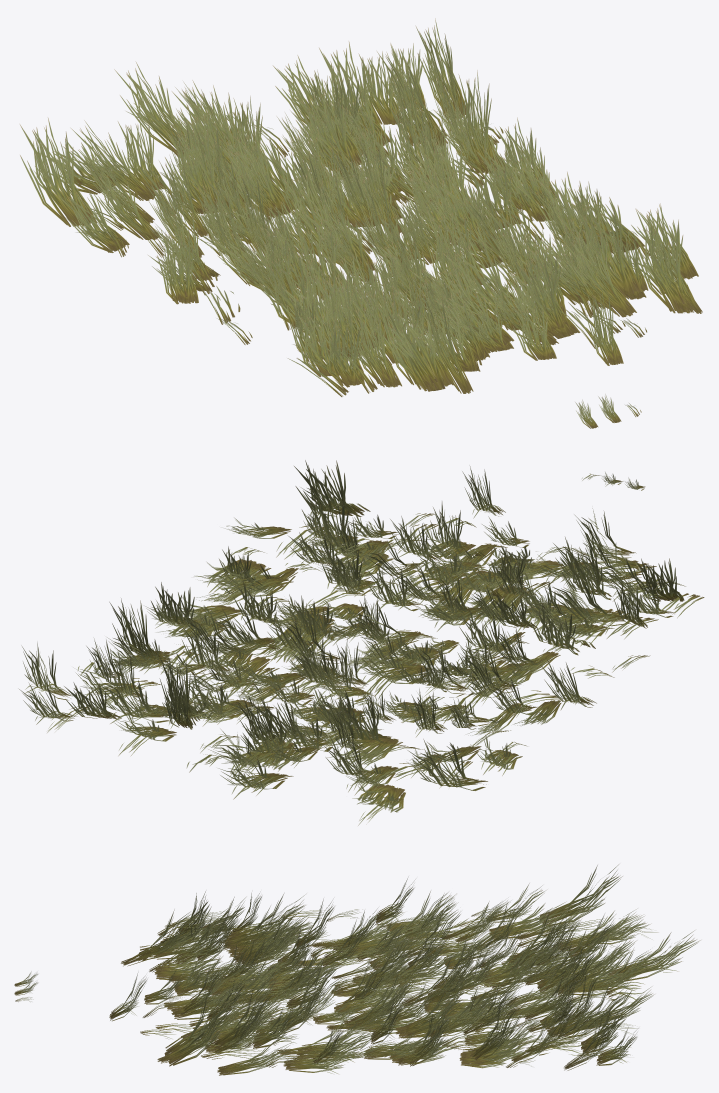
The model's file is flattened_grass.gltf.
3 renders of one model, top to bottom at view 1: azimuth 30°, elevation 25°; view 2: azimuth 150°, elevation 25°; view 3: azimuth 270°, elevation 25°, orthographic. The views are drawn at different scales.
Visible parts, largest first — view 1: Grass_High_17, Grass_Med_241, Grass_Med_40, Grass_High_242, Grass_Med_79, Grass_High_218, Grass_Med_277, Grass_High_74, Grass_High_203, Grass_Med_10, Grass_High_122, Grass_Med_4 (+109 smaller); view 2: Grass_Med_241, Grass_High_17, Grass_Med_4, Grass_Med_217, Grass_High_2, Grass_High_254, Grass_Med_247, Grass_High_242, Grass_Med_79, Grass_High_92, Grass_High_74, Grass_High_23 (+72 smaller); view 3: Grass_Med_241, Grass_Med_79, Grass_High_17, Grass_Med_4, Grass_Med_256, Grass_Med_247, Grass_High_35, Grass_Med_148, Grass_Med_217, Grass_Med_265, Grass_High_200, Grass_Med_157 (+133 smaller).
Part boxes in pixels (x1,y1,x2,y2): Grass_High_17: [20, 118, 96, 226]; Grass_Med_241: [632, 203, 694, 313]; Grass_Med_40: [383, 304, 453, 391]; Grass_High_242: [572, 192, 641, 297]; Grass_Med_79: [114, 62, 196, 155]; Grass_High_218: [296, 86, 361, 171]; Grass_Med_277: [416, 18, 466, 118]; Grass_High_74: [165, 122, 223, 212]; Grass_High_203: [562, 233, 636, 317]; Grass_Med_10: [157, 227, 198, 304]; Grass_High_122: [443, 238, 528, 324]; Grass_Med_4: [295, 251, 343, 356]; Grass_Med_241: [294, 460, 370, 518]; Grass_High_17: [407, 739, 487, 790]; Grass_Med_4: [541, 576, 631, 628]; Grass_Med_217: [94, 672, 172, 723]; Grass_High_2: [634, 558, 684, 601]; Grass_High_254: [109, 598, 161, 659]; Grass_Med_247: [207, 559, 293, 603]; Grass_High_242: [301, 488, 360, 545]; Grass_Med_79: [218, 755, 293, 799]; Grass_High_92: [352, 642, 432, 684]; Grass_High_74: [330, 695, 392, 743]; Grass_High_23: [560, 548, 611, 599]; Grass_Med_241: [164, 993, 231, 1066]; Grass_Med_79: [608, 930, 700, 983]; Grass_High_17: [540, 864, 622, 926]; Grass_Med_4: [224, 894, 305, 943]; Grass_Med_256: [467, 1025, 540, 1066]; Grass_Med_247: [296, 1021, 377, 1062]; Grass_High_35: [489, 902, 570, 939]; Grass_Med_148: [331, 946, 418, 996]; Grass_Med_217: [557, 983, 629, 1039]; Grass_Med_265: [283, 1042, 361, 1073]; Grass_High_200: [171, 974, 242, 1019]; Grass_Med_157: [568, 951, 651, 996].
Size of the model in its own units: 3.88 by 0.7739 by 6.59.
Materials: 1 (1 with a texture image).
